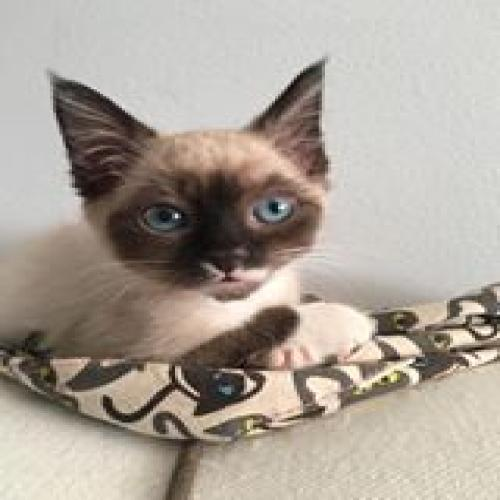siamese: (27, 55, 369, 310)
